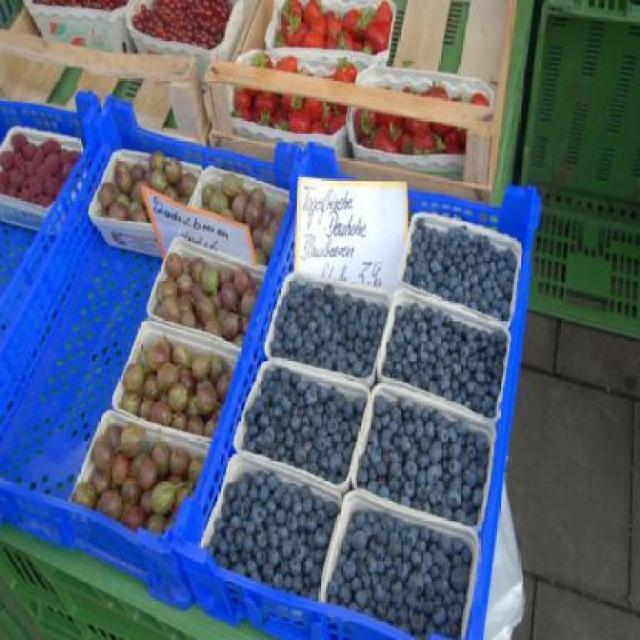Strawberry: (362, 14, 392, 57), (254, 92, 274, 131), (278, 0, 308, 26), (442, 128, 464, 162), (342, 7, 366, 38), (326, 110, 352, 138), (287, 110, 313, 136), (338, 27, 364, 53), (284, 22, 308, 50), (414, 126, 440, 151), (234, 88, 254, 120), (336, 56, 358, 84), (354, 110, 376, 138), (370, 125, 392, 152), (252, 44, 274, 70), (469, 84, 491, 110), (270, 108, 290, 134), (392, 133, 414, 156), (372, 0, 394, 22), (304, 96, 322, 122), (272, 26, 292, 49), (299, 28, 324, 46), (308, 0, 324, 28), (308, 119, 328, 141), (280, 94, 300, 115), (318, 105, 342, 122), (358, 130, 373, 156), (276, 54, 298, 71), (327, 18, 344, 40), (320, 32, 340, 49), (430, 86, 448, 100), (334, 98, 349, 114), (388, 114, 408, 126), (458, 126, 468, 148), (451, 94, 462, 102), (402, 84, 411, 90)
